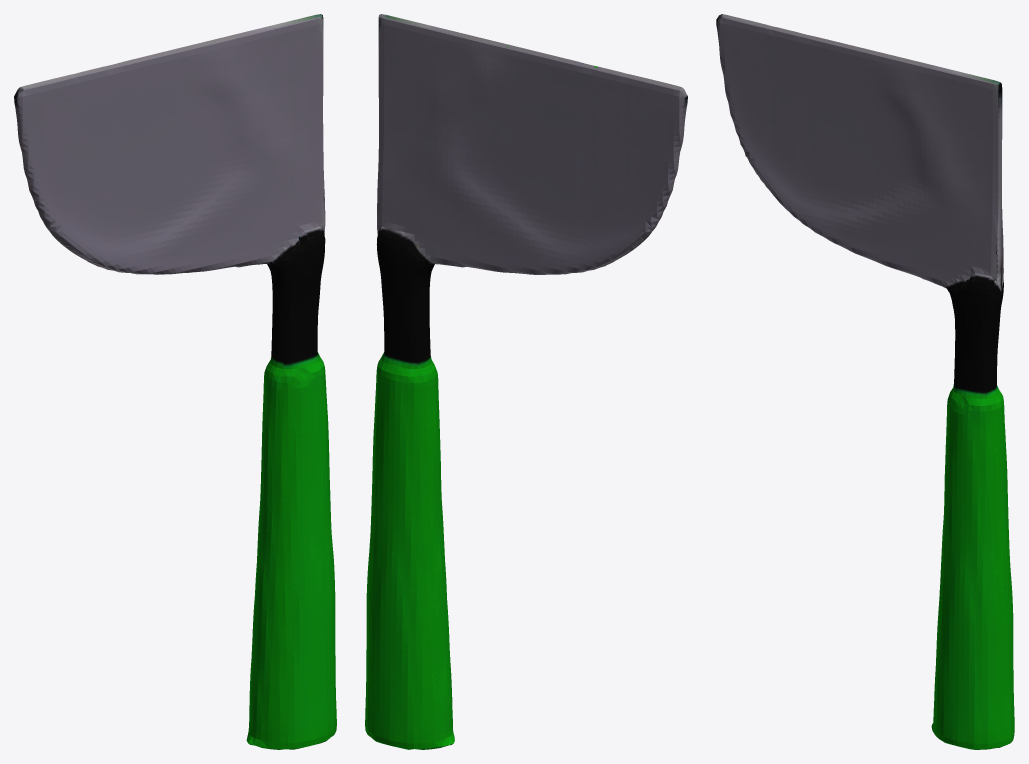
File: shovel1.glb
3 renders of one model, left to right at view 1: azimuth 30°, elevation 25°; view 2: azimuth 150°, elevation 25°; view 3: azimuth 330°, elevation 25°, orthographic. The views are drawn at different scales.
Parts seen in each view (by area): view 1: tmpsfvpk1qu.ply; view 2: tmpsfvpk1qu.ply; view 3: tmpsfvpk1qu.ply.
Boxes of the visible parts, box(x1,y1,x2,y2) form: tmpsfvpk1qu.ply: box(14, 14, 336, 749); tmpsfvpk1qu.ply: box(365, 14, 687, 749); tmpsfvpk1qu.ply: box(716, 14, 1014, 749).
Bounding box in the file's own units: 0.9144 × 1.96 × 0.1864.
Materials: 1 (1 with a texture image).
